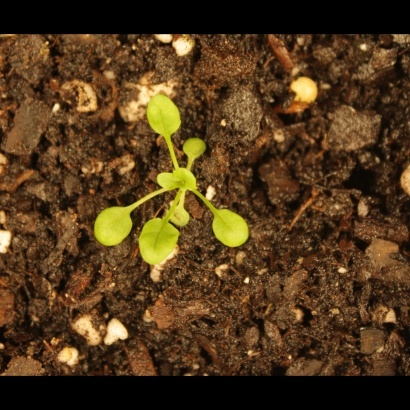leaf: (137, 214, 182, 269), (88, 201, 138, 249), (205, 205, 254, 252), (139, 91, 184, 136), (180, 134, 208, 166), (171, 169, 199, 192), (168, 203, 192, 229), (154, 169, 177, 192)
